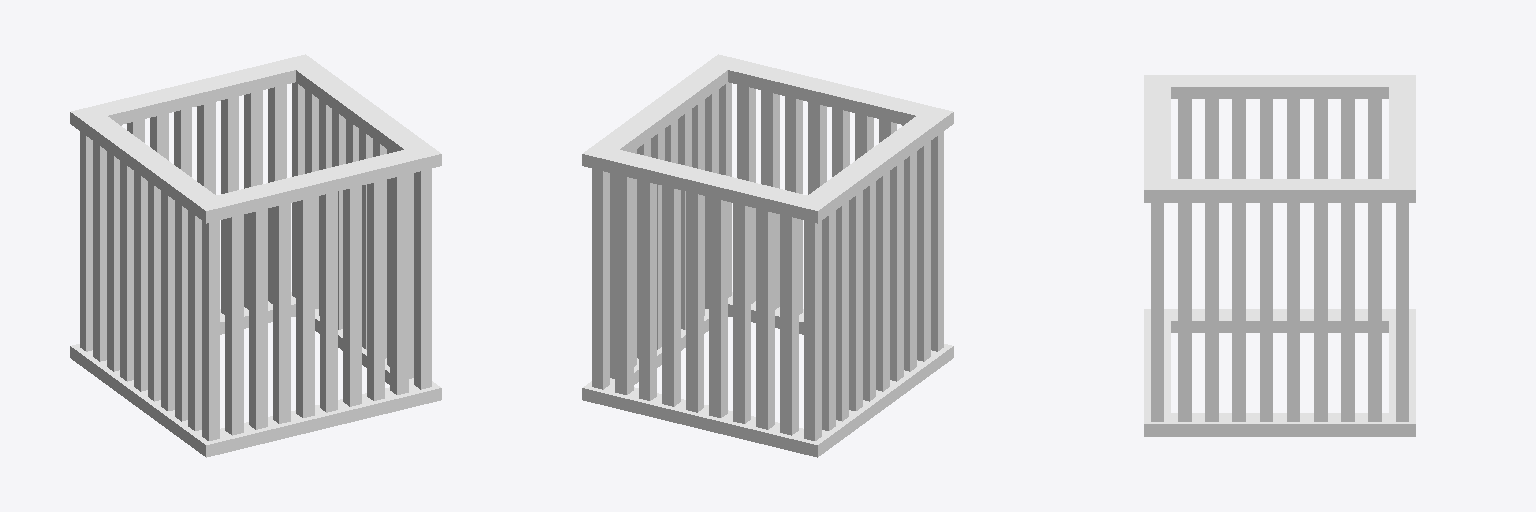
The model's file is jail.obj.
The picture shows the model from 3 angles: view 1: azimuth 30°, elevation 25°; view 2: azimuth 150°, elevation 25°; view 3: azimuth 270°, elevation 25°; orthographic projection.
Visible parts, largest first — view 1: object 1; view 2: object 1; view 3: object 1.
Boxes of the visible parts, box(x1,y1,x2,y2) form: object 1: box(70, 54, 441, 457); object 1: box(582, 54, 953, 457); object 1: box(1144, 75, 1415, 436).
Bounding box in the file's own units: 4 × 4 × 4.